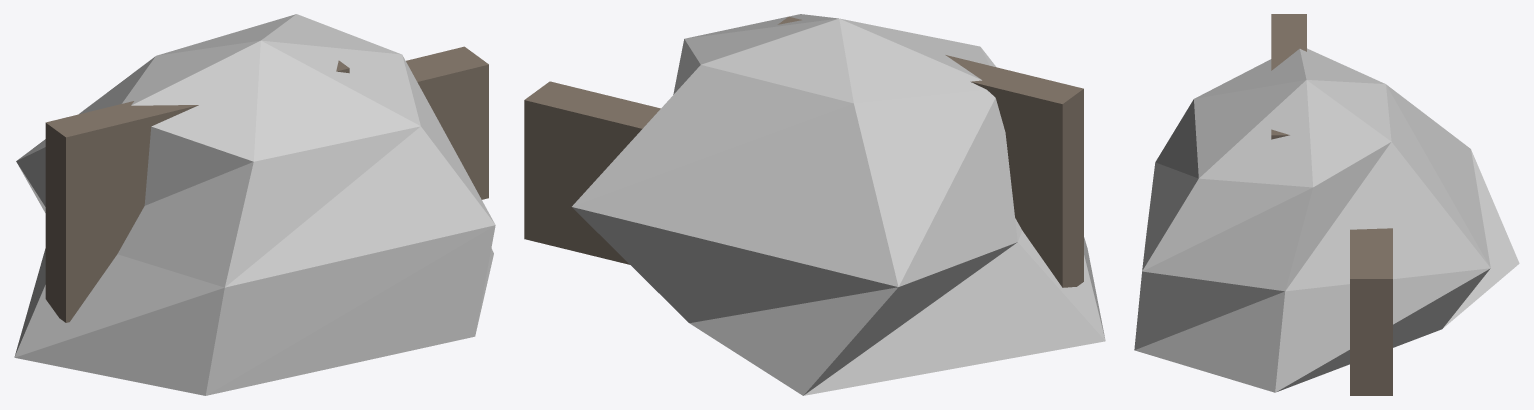
Rendered from slag_2.obj.
The picture shows the model from 3 angles, left to right: view 1: azimuth 30°, elevation 25°; view 2: azimuth 150°, elevation 25°; view 3: azimuth 270°, elevation 25°; orthographic projection. The views are drawn at different scales.
Visible parts, largest first — view 1: slag_2; view 2: slag_2; view 3: slag_2.
Part boxes in pixels (left/top/right/bottom): slag_2: left=14, top=14, right=495, bottom=395; slag_2: left=524, top=14, right=1105, bottom=395; slag_2: left=1134, top=14, right=1519, bottom=395.
Bounding box in the file's own units: 0.7112 × 0.34 × 0.5373.
